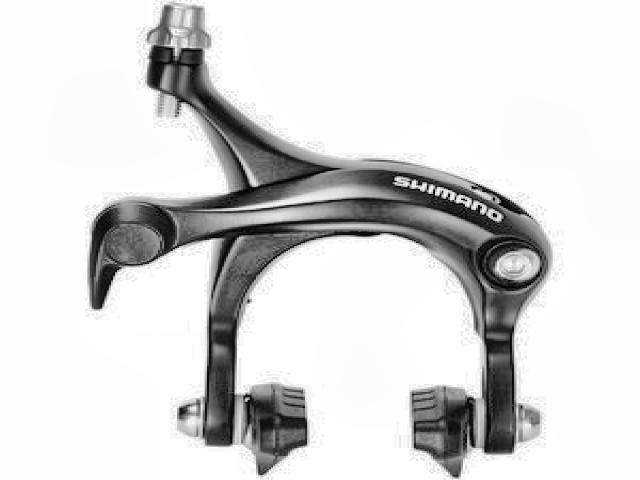rim_brake: (90, 1, 555, 477)
